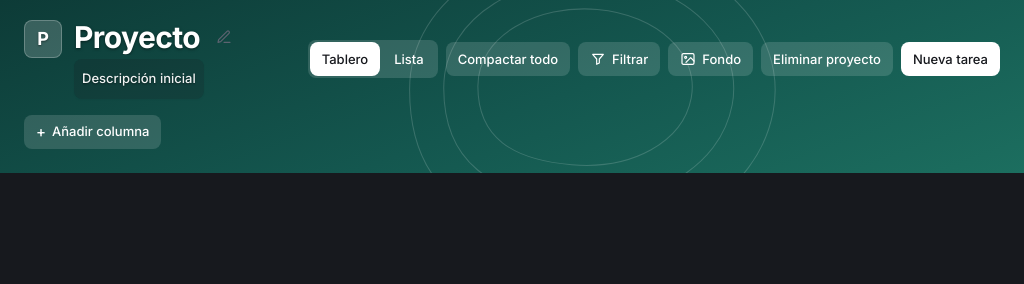
Scenario: ProyectoDetalle › edita la descripción del proyecto y envía el PATCH
Click the button with aria-label "editar descripción" at (139, 78), box [74, 58, 204, 98]
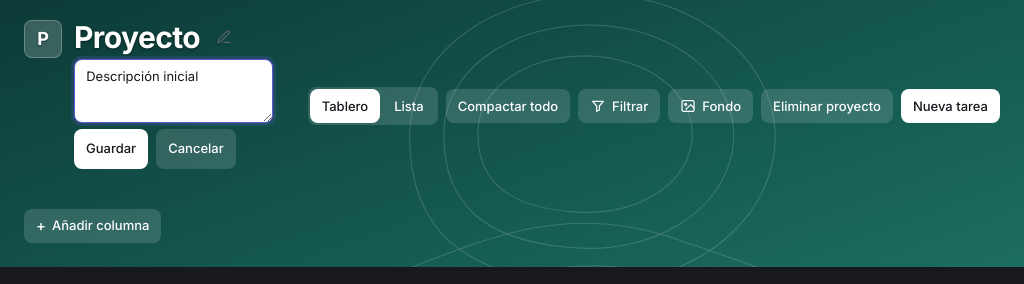
Replace the text in the text box named "descripción" with "Descripción nueva" at (174, 90), box [74, 58, 273, 122]
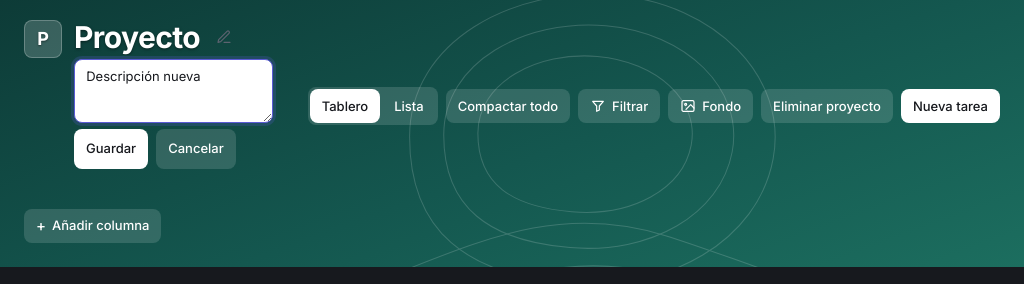
Click the button "Guardar" at (111, 148), box [74, 128, 148, 168]
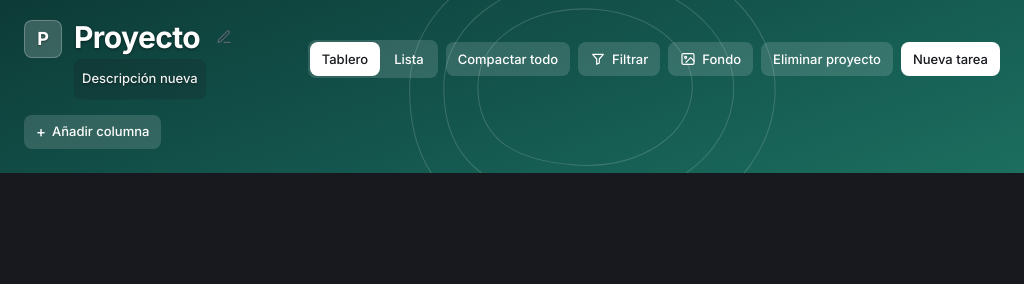
Now the text "Descripción nueva" is shown, box [82, 70, 198, 87]
